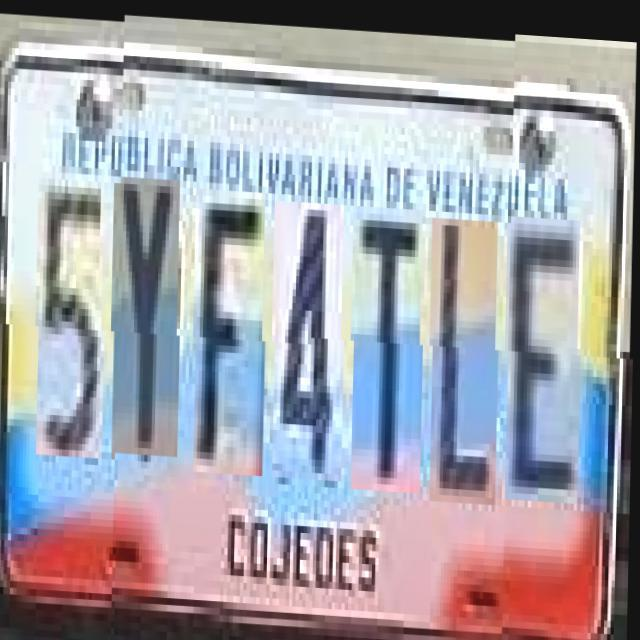4: (274, 196, 348, 476)
5: (38, 171, 108, 450)
E: (507, 215, 584, 502)
F: (196, 185, 270, 472)
L: (432, 212, 502, 498)
T: (353, 200, 427, 488)
Y: (114, 175, 184, 454)
